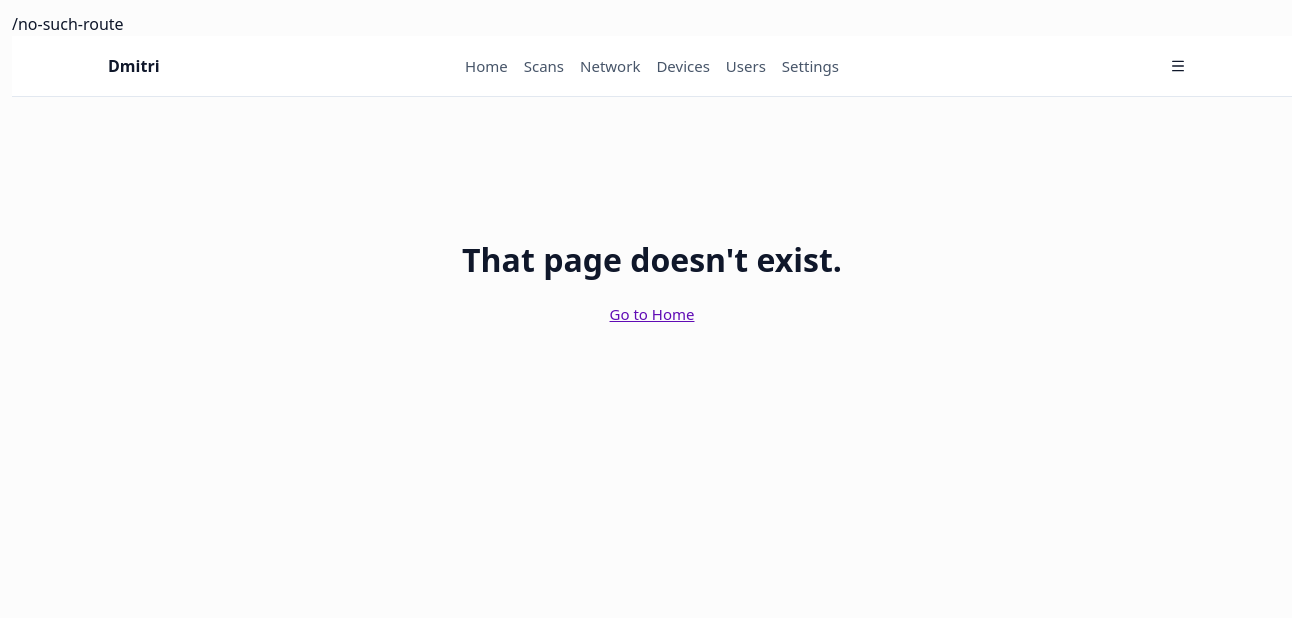
App › signed in, renders not-found with the top bar intact for an unknown path, without rewriting the URL, and returns home via not-found-home (AC 19)
Check: the text "That page doesn't exist." is shown, box [462,241,842,279]
Check: the header with test id "top-bar" is shown, box [12,36,1291,97]
Click the link "Go to Home". click: (652,315)
box: [610,303,694,326]
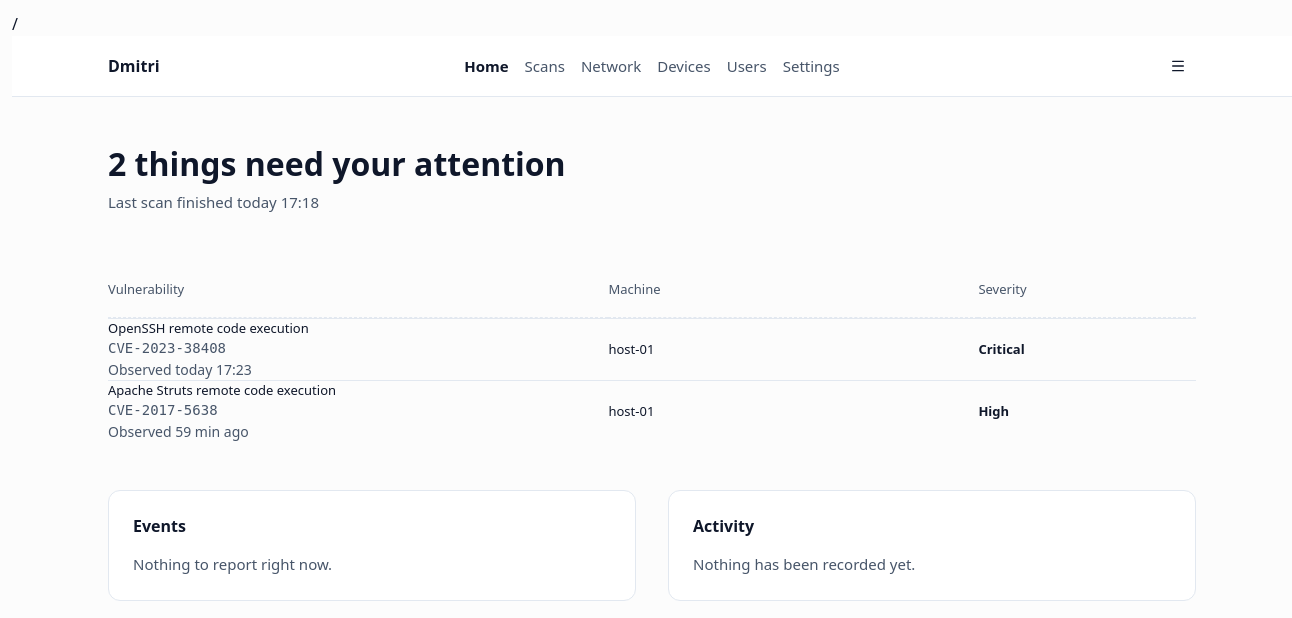
Check: the text with test id "location-probe" reads "/", box [12,13,18,35]
Check: the text "2 things need your attention" is shown, box [108,145,566,183]
Check: the text with test id "not-found" is gone
